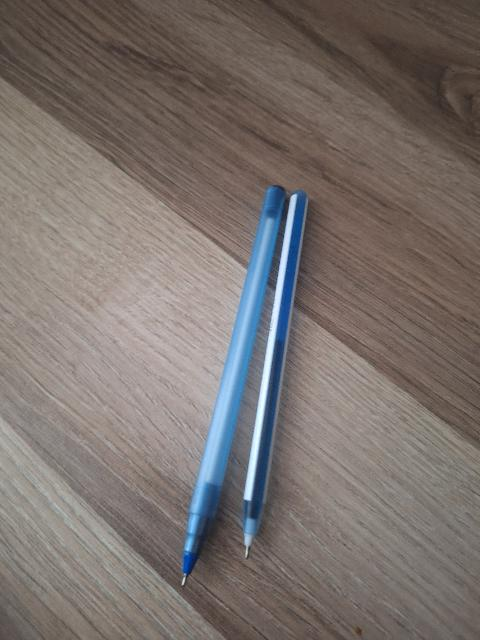writing_tool: (176, 181, 286, 585), (234, 190, 312, 555)
